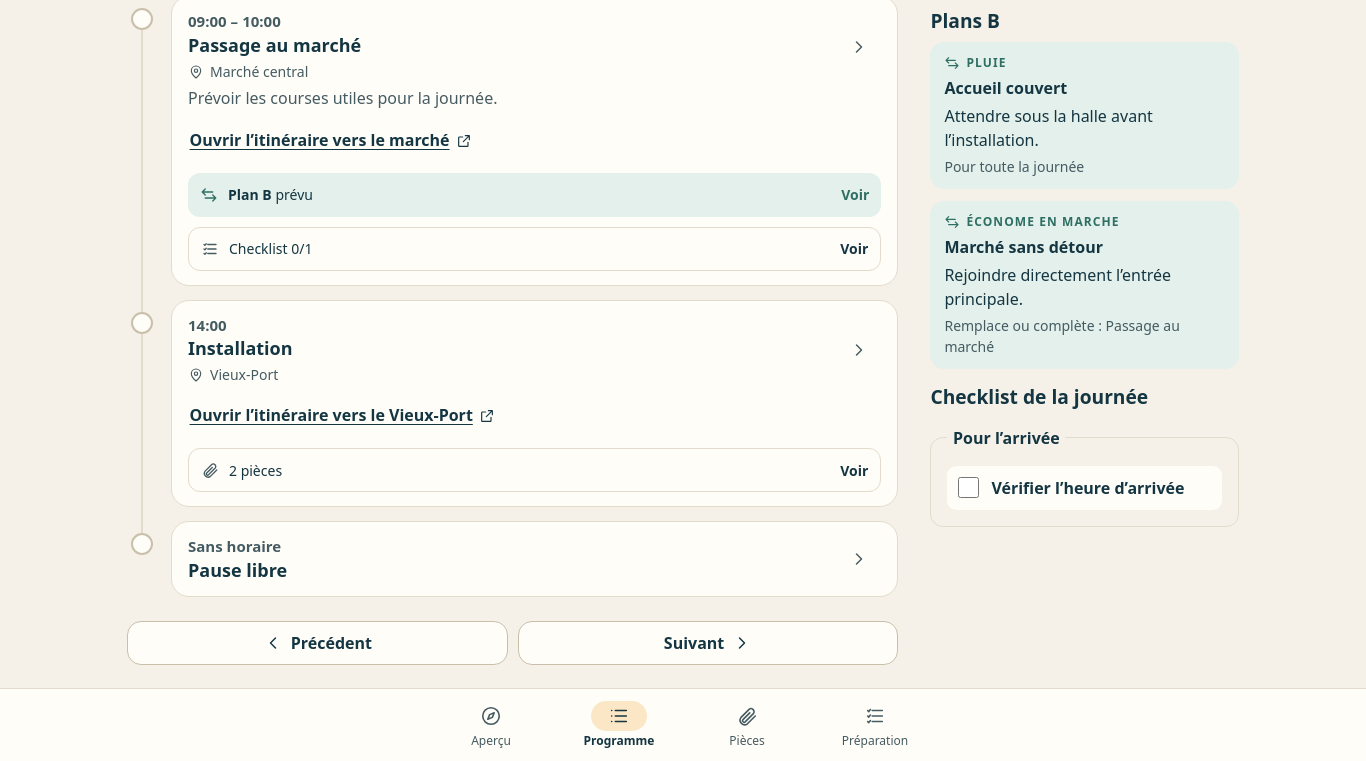
Test case: déroulé, actions et compléments › résume les pièces de l’étape dans la frise sans les recopier
The image size is (1366, 761).
(page scrolled)
Expected: the text "PORT-2026" is not shown
Click the button with aria-label "Voir le détail de l’étape Installation : 2 pièces".
click(256, 470)  # box [188,448,881,492]
(page scrolled)
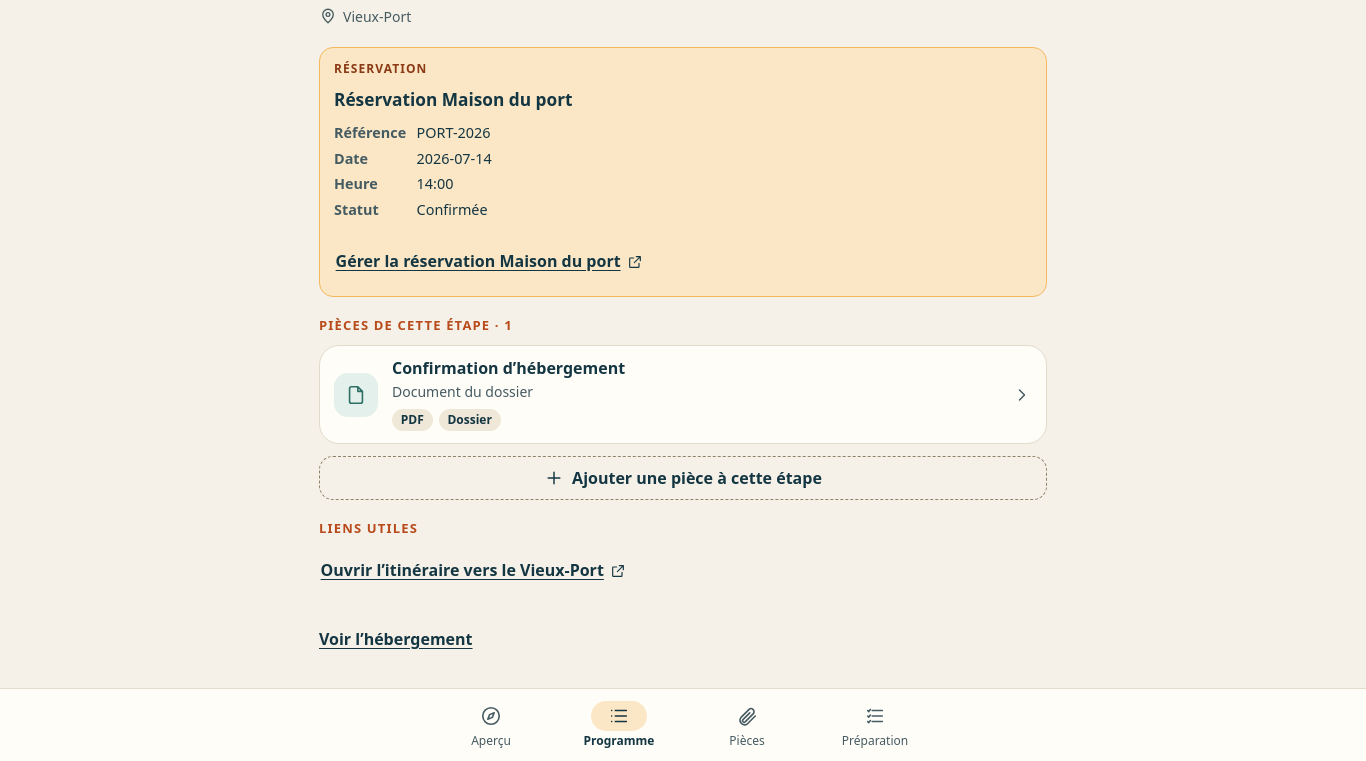
Result: the heading "Réservation Maison du port" is shown at [334,88,572,111]
Result: the button with aria-label "Voir la fiche Confirmation d’hébergement" is shown at [320,346,1046,443]
